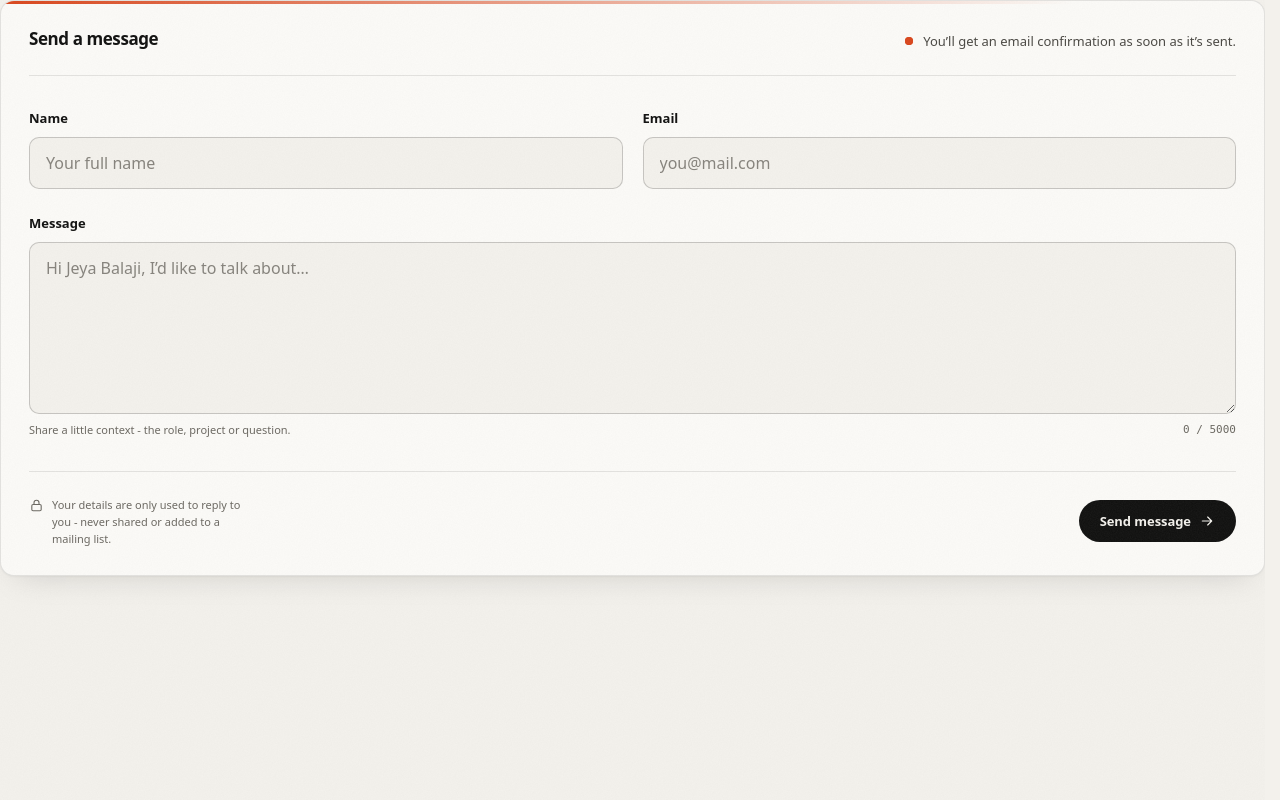
Scenario: ContactForm › does not promise a confirmation email the API did not send
The image size is (1280, 800).
In the field labelled "Name": (326, 163) [29, 137, 622, 189], type "  Ada Lovelace "
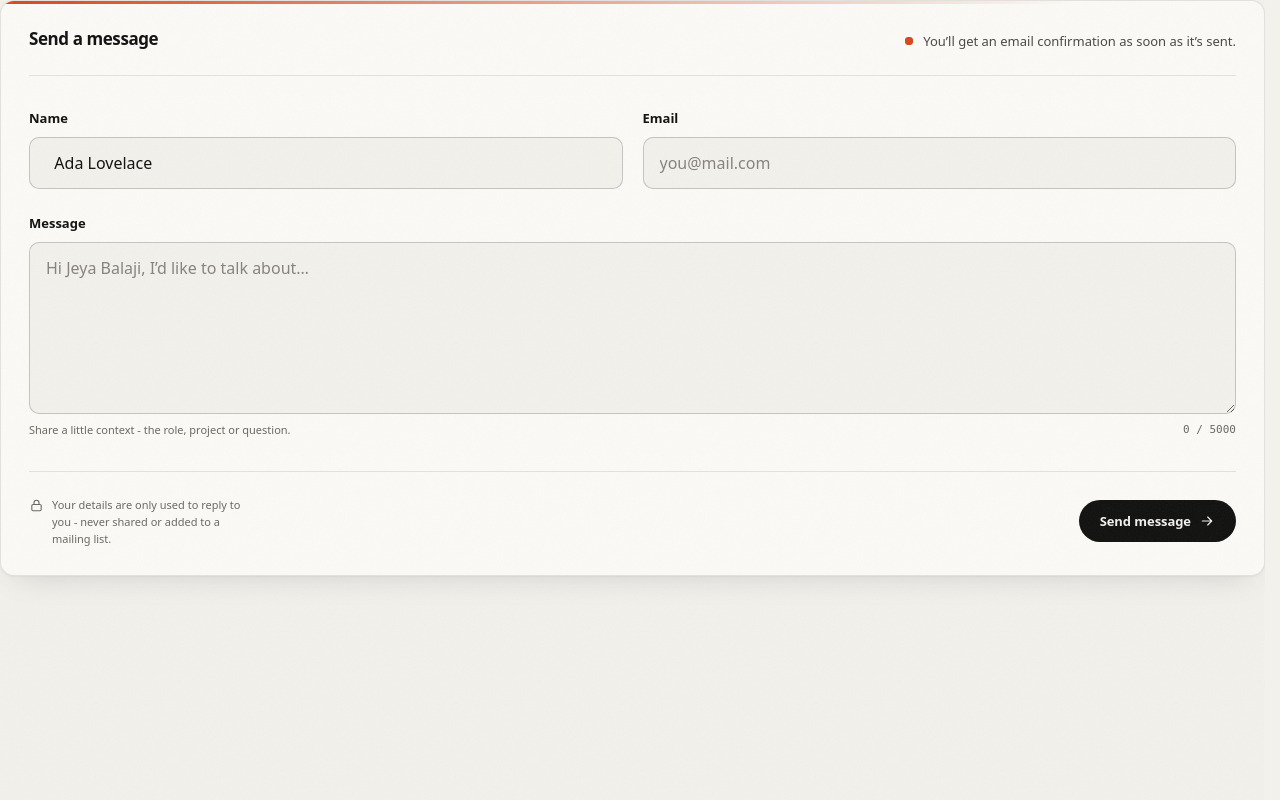
In the field labelled "Email": (939, 163) [642, 137, 1236, 189], type "ada@example.com"
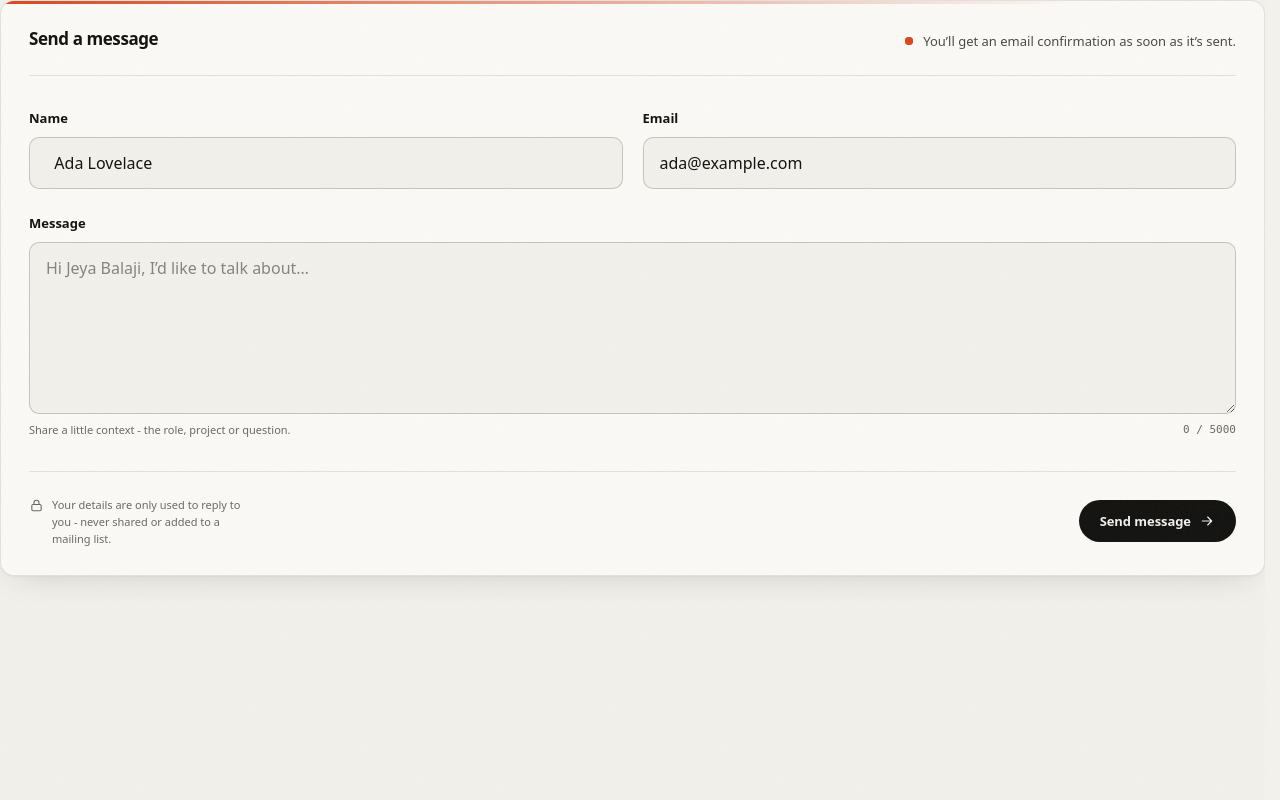
In the text box labelled "Message": (632, 328) [29, 242, 1236, 414], type "I have a React dashboard that needs a rebuild."
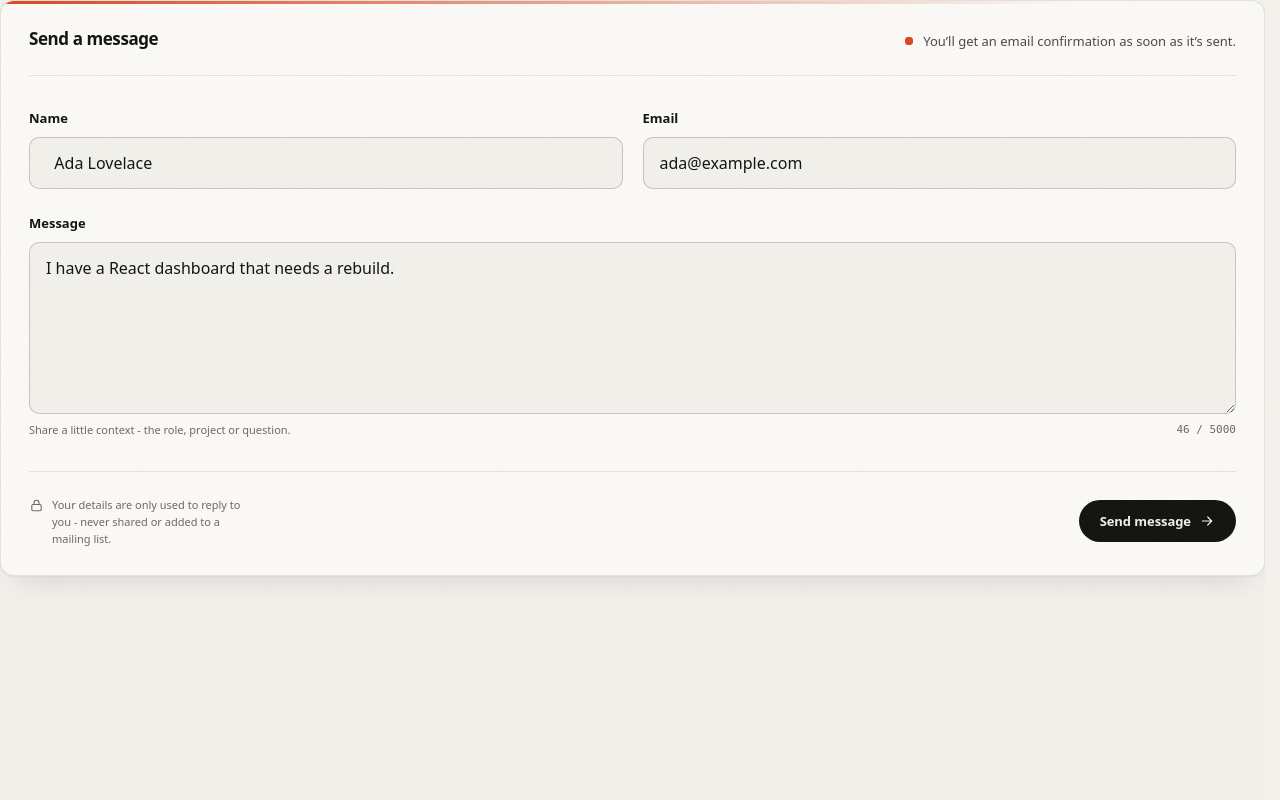
Click the button "Send message": (1157, 521) [1079, 500, 1236, 542]
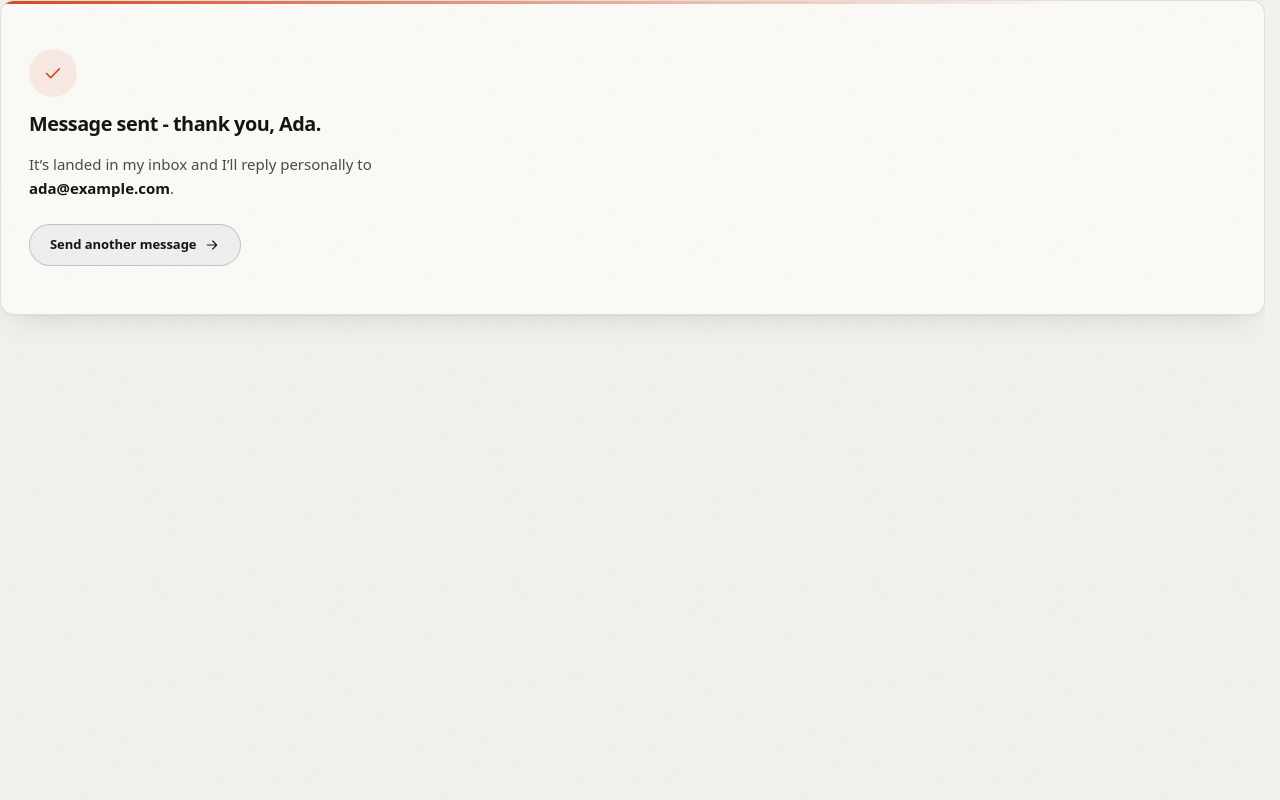
Expected: the heading "Message sent - thank you, Ada." is shown, [29, 113, 321, 136]
Expected: the field "confirmation email" is gone
